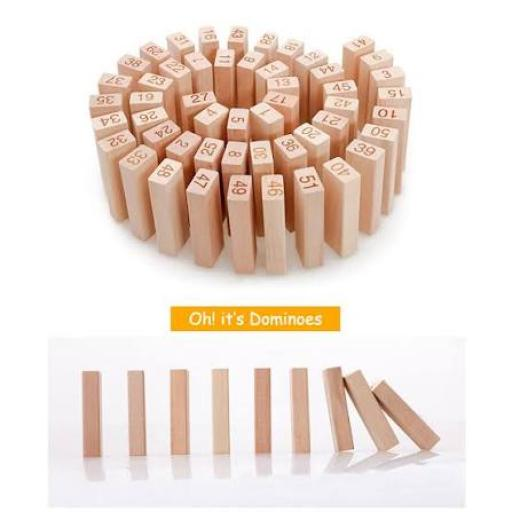mainan blok: (88, 25, 414, 277), (77, 365, 444, 468)
